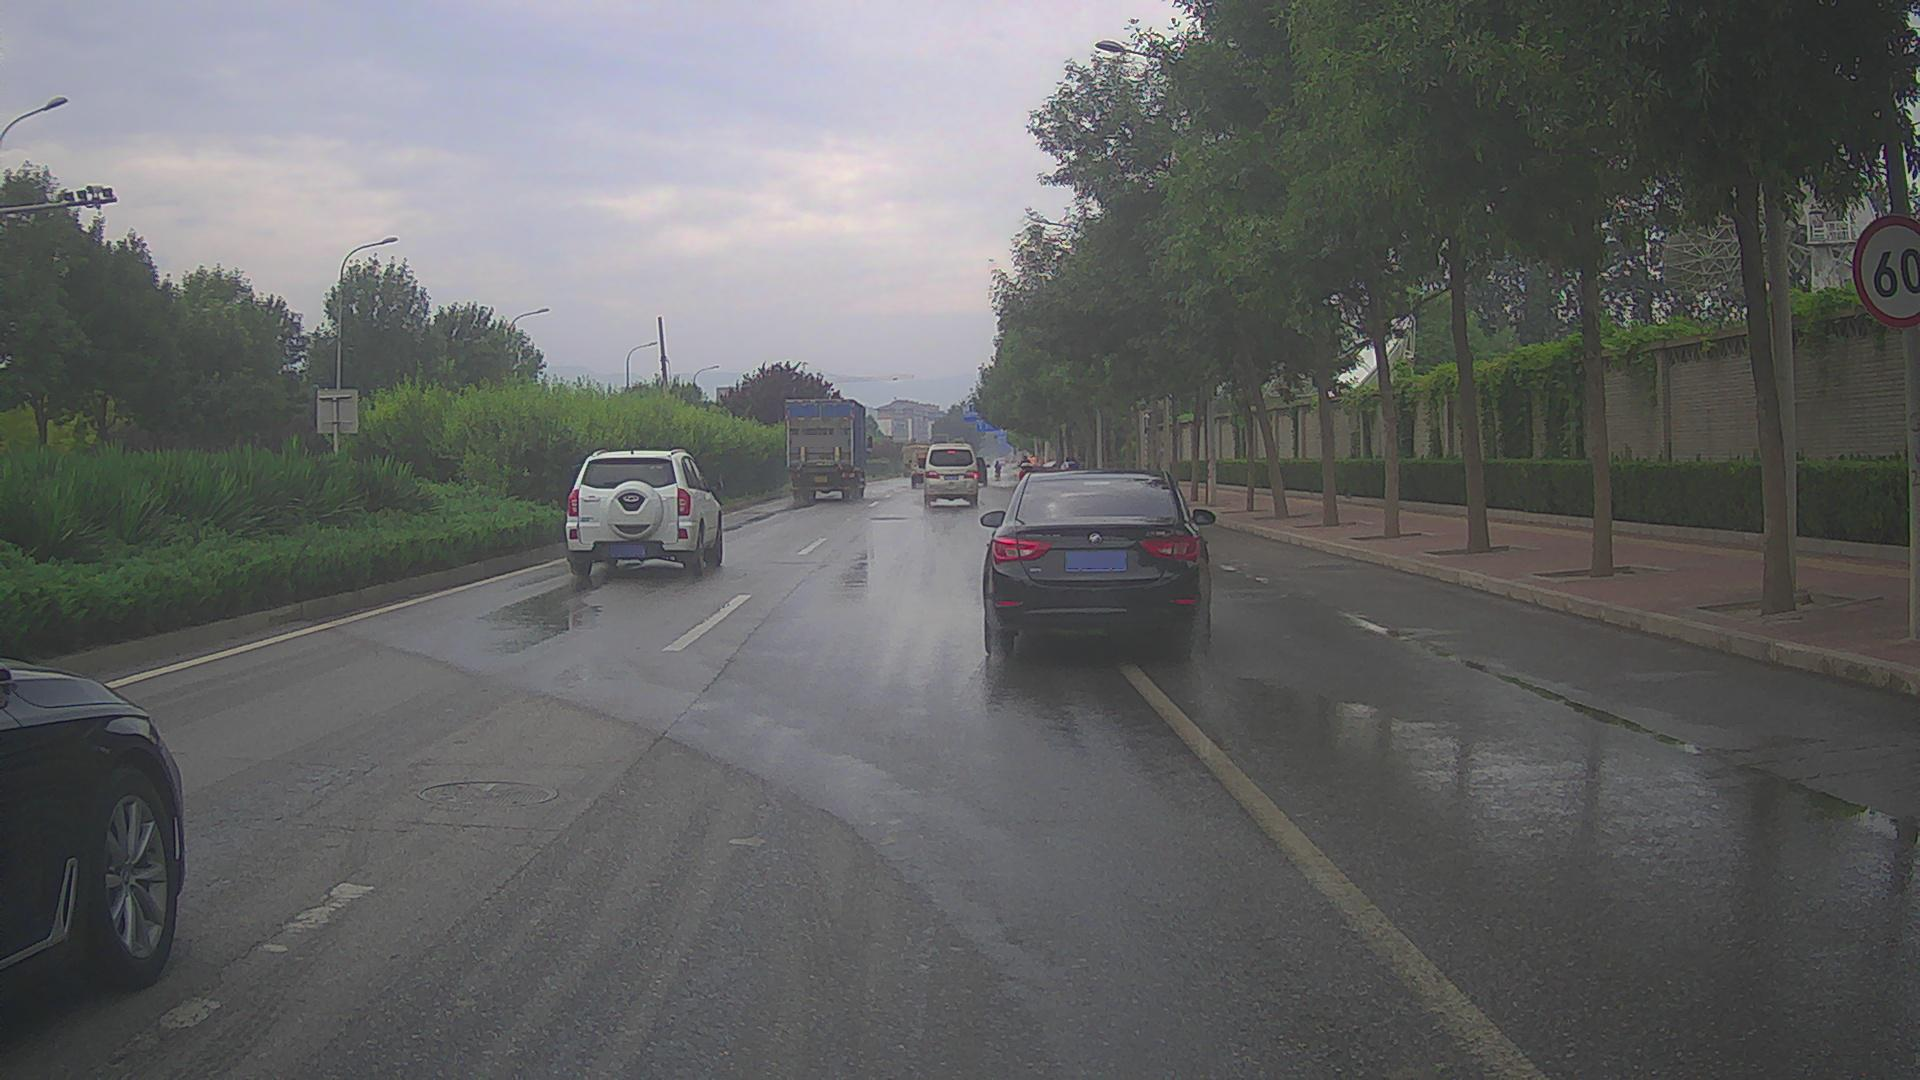car: (981, 468, 1217, 655), (565, 447, 723, 579)
cyclist: (993, 459, 1001, 480)
ignore: (1, 659, 187, 1000)
motorcyclist: (1019, 454, 1033, 481)
pedestrian: (1060, 456, 1076, 485)
truck: (784, 398, 871, 503), (909, 450, 940, 489), (900, 444, 929, 478)
van: (922, 442, 979, 508), (959, 457, 990, 487)
